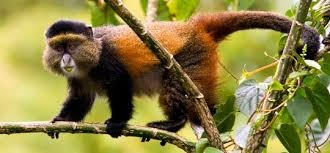monkey: (38, 4, 325, 146)
